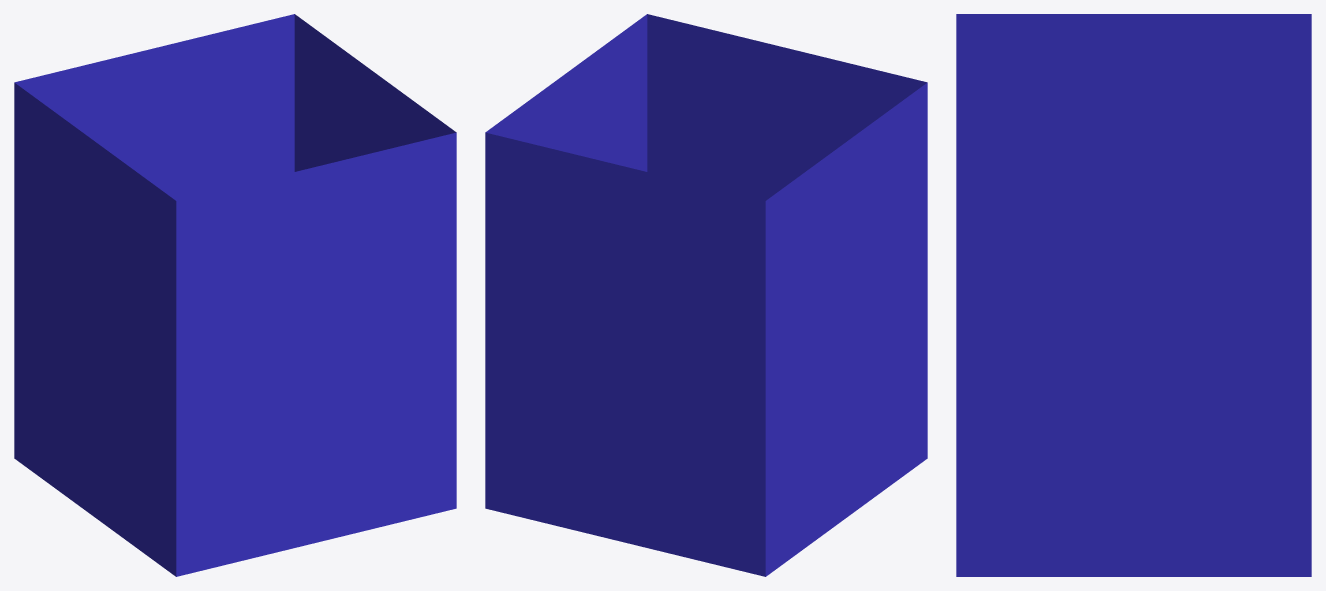
File: OZMaP.glb
3 views of the same model, side by side, from view 1: azimuth 30°, elevation 25°; view 2: azimuth 150°, elevation 25°; view 3: azimuth 270°, elevation 25° (orthographic). The views are drawn at different scales.
Visible parts, largest first — view 1: Plane.001; view 2: Plane.001; view 3: Plane.001.
Boxes of the visible parts, <box> form: Plane.001: <box>14,14,456,576</box>; Plane.001: <box>485,14,927,576</box>; Plane.001: <box>956,14,1311,576</box>.
Bounding box in the file's own units: 28.1 × 36 × 28.1.
